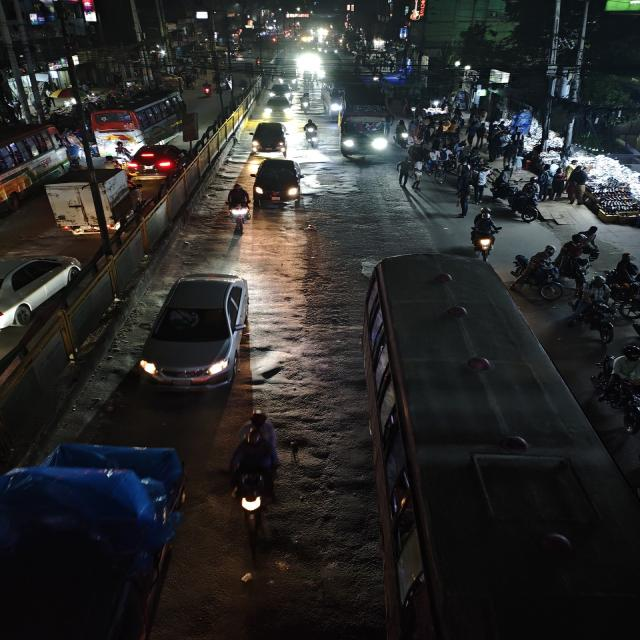bus: (359, 251, 609, 633), (0, 120, 69, 212), (91, 87, 192, 149), (335, 95, 392, 165)
car: (140, 269, 259, 393), (0, 246, 88, 334), (249, 155, 307, 207), (130, 141, 196, 177), (248, 119, 290, 156), (261, 94, 295, 120), (266, 81, 293, 101)
motorcycle: (227, 414, 282, 528), (590, 344, 640, 427), (585, 274, 640, 324), (511, 252, 565, 300), (568, 296, 616, 345), (468, 210, 502, 260), (222, 182, 254, 232), (564, 230, 597, 274), (104, 140, 134, 166), (299, 118, 323, 150), (296, 90, 313, 114)
pedestrian: (579, 224, 602, 253), (396, 158, 413, 186)
pickup_van: (1, 444, 194, 640)
truck: (43, 167, 140, 237)
